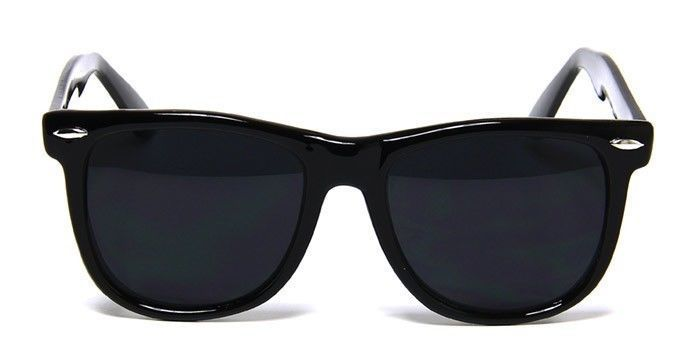sunglasses: (13, 62, 637, 342)
